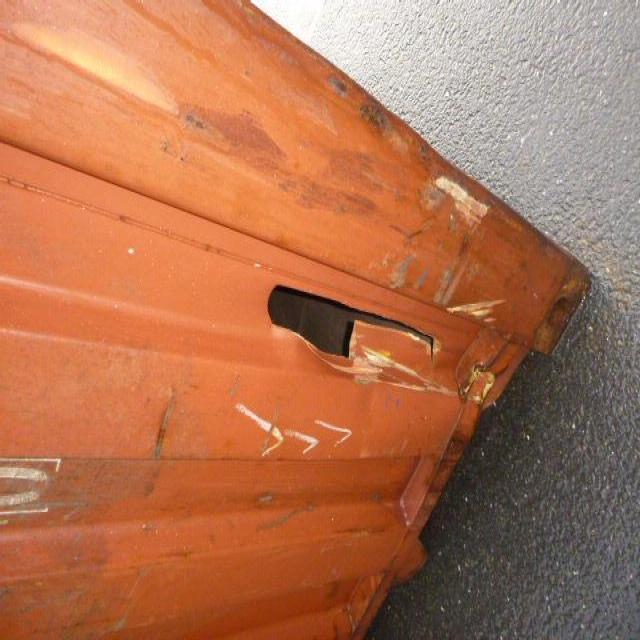hole: (266, 277, 442, 380)
